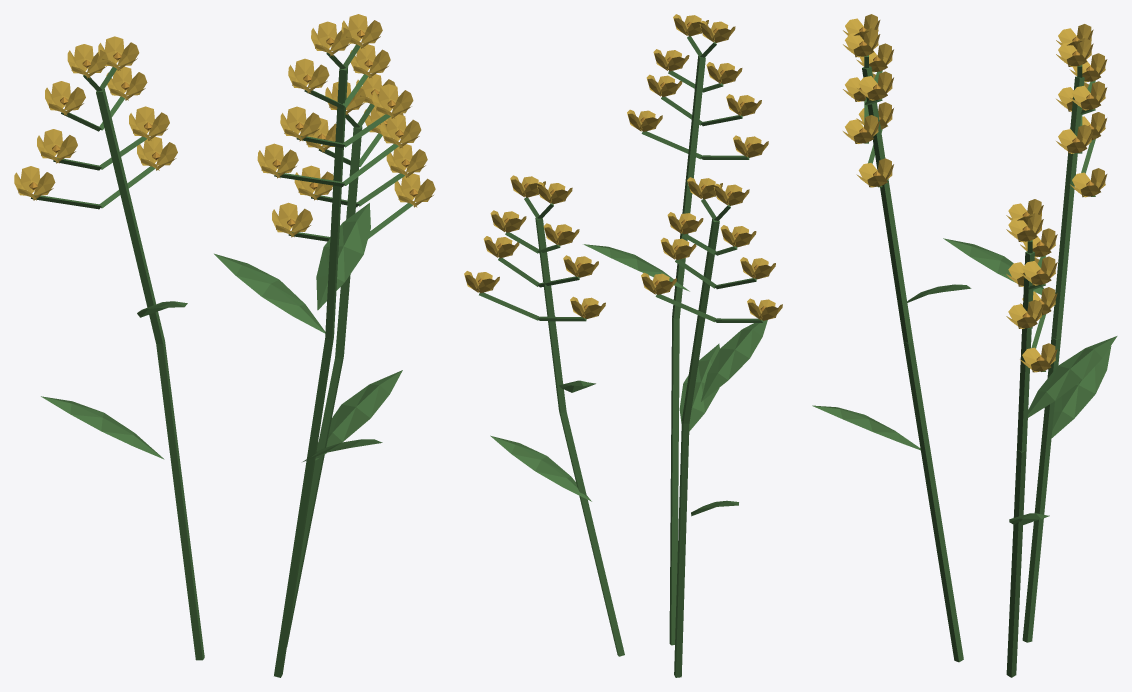
File: flower_autumn_b.glb
The picture shows the model from 3 angles, left to right: view 1: azimuth 30°, elevation 25°; view 2: azimuth 150°, elevation 25°; view 3: azimuth 270°, elevation 25°; orthographic projection. The views are drawn at different scales.
Parts seen in each view (by area): view 1: plant; view 2: plant; view 3: plant.
Part boxes in pixels (x1,y1,x2,y2): plant: [14, 14, 435, 677]; plant: [464, 14, 782, 677]; plant: [812, 14, 1117, 677].
Bounding box in the file's own units: 0.2918 × 0.49 × 0.2118.
